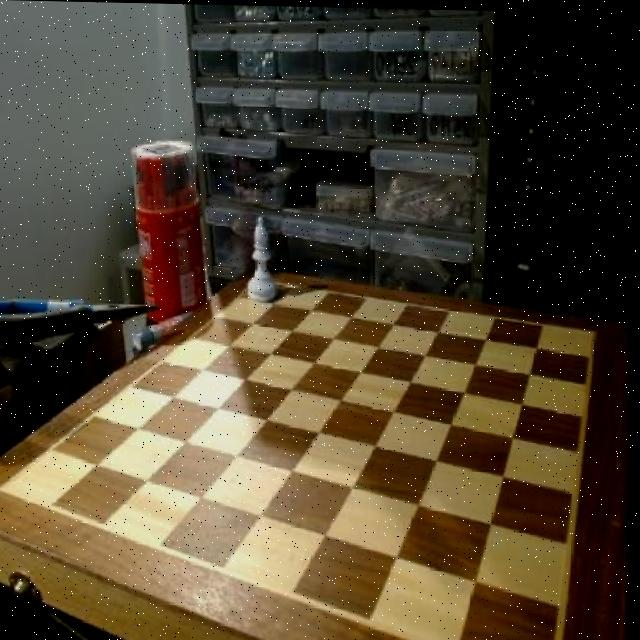black-rook: (242, 212, 281, 306)
